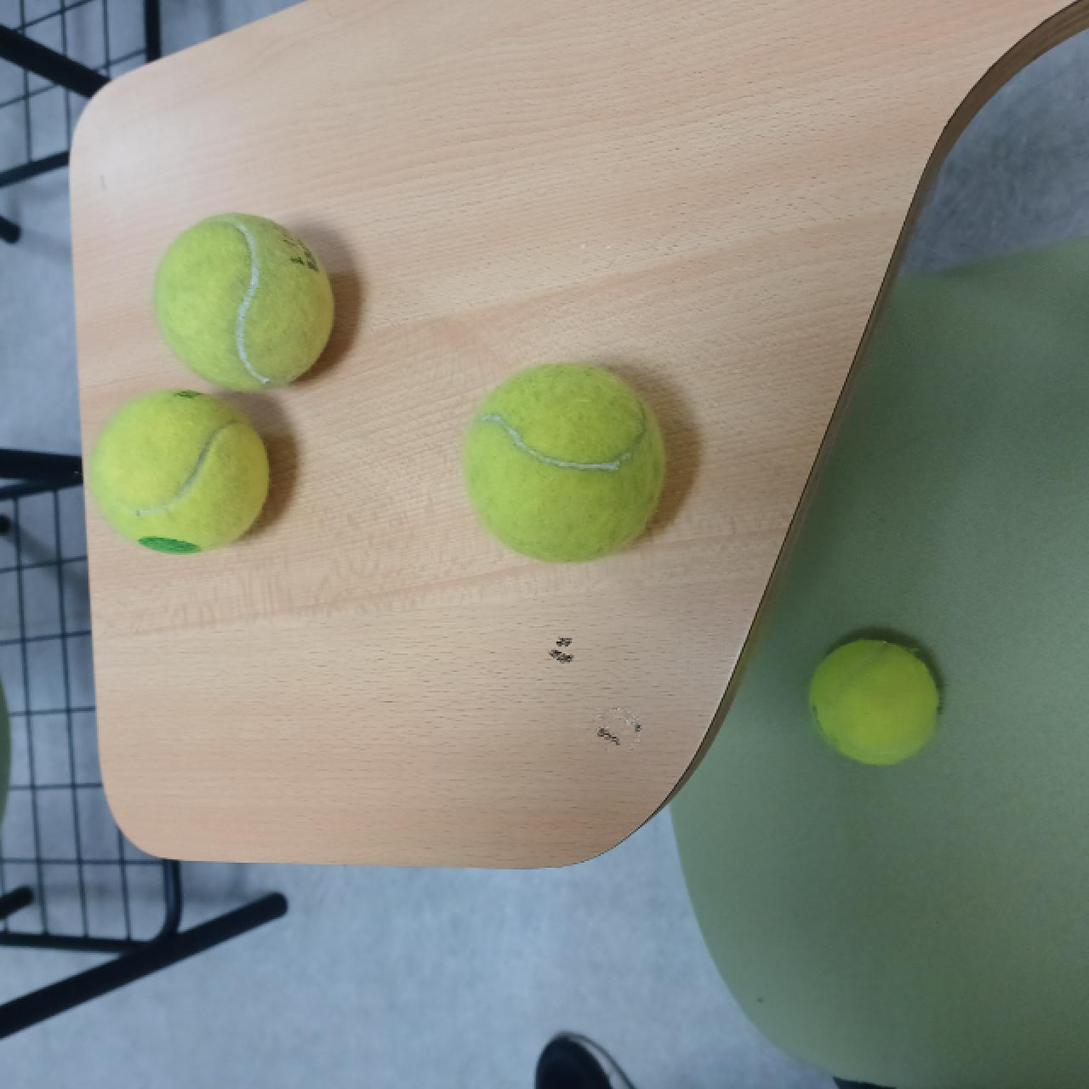tennis-ball: (466, 362, 667, 564), (151, 214, 334, 393), (94, 391, 270, 554), (811, 638, 946, 767)
